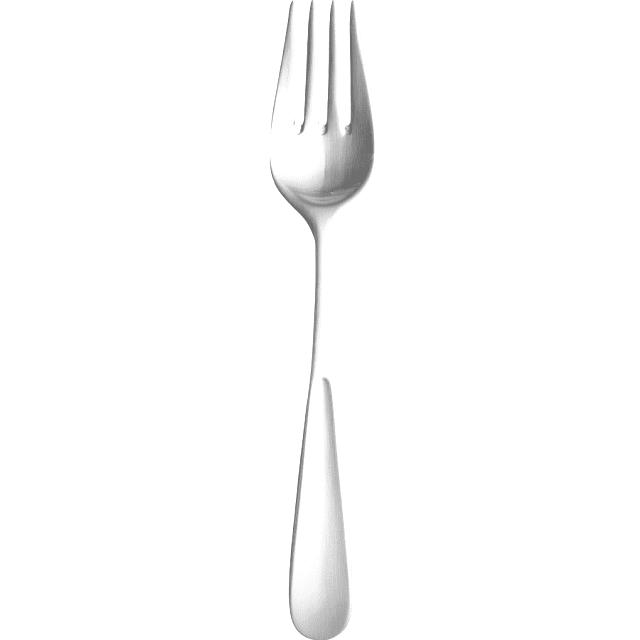Garpu: (238, 4, 402, 636)
